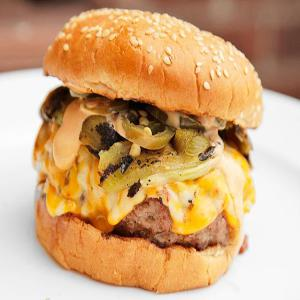cheeseburger: (20, 4, 271, 293)
